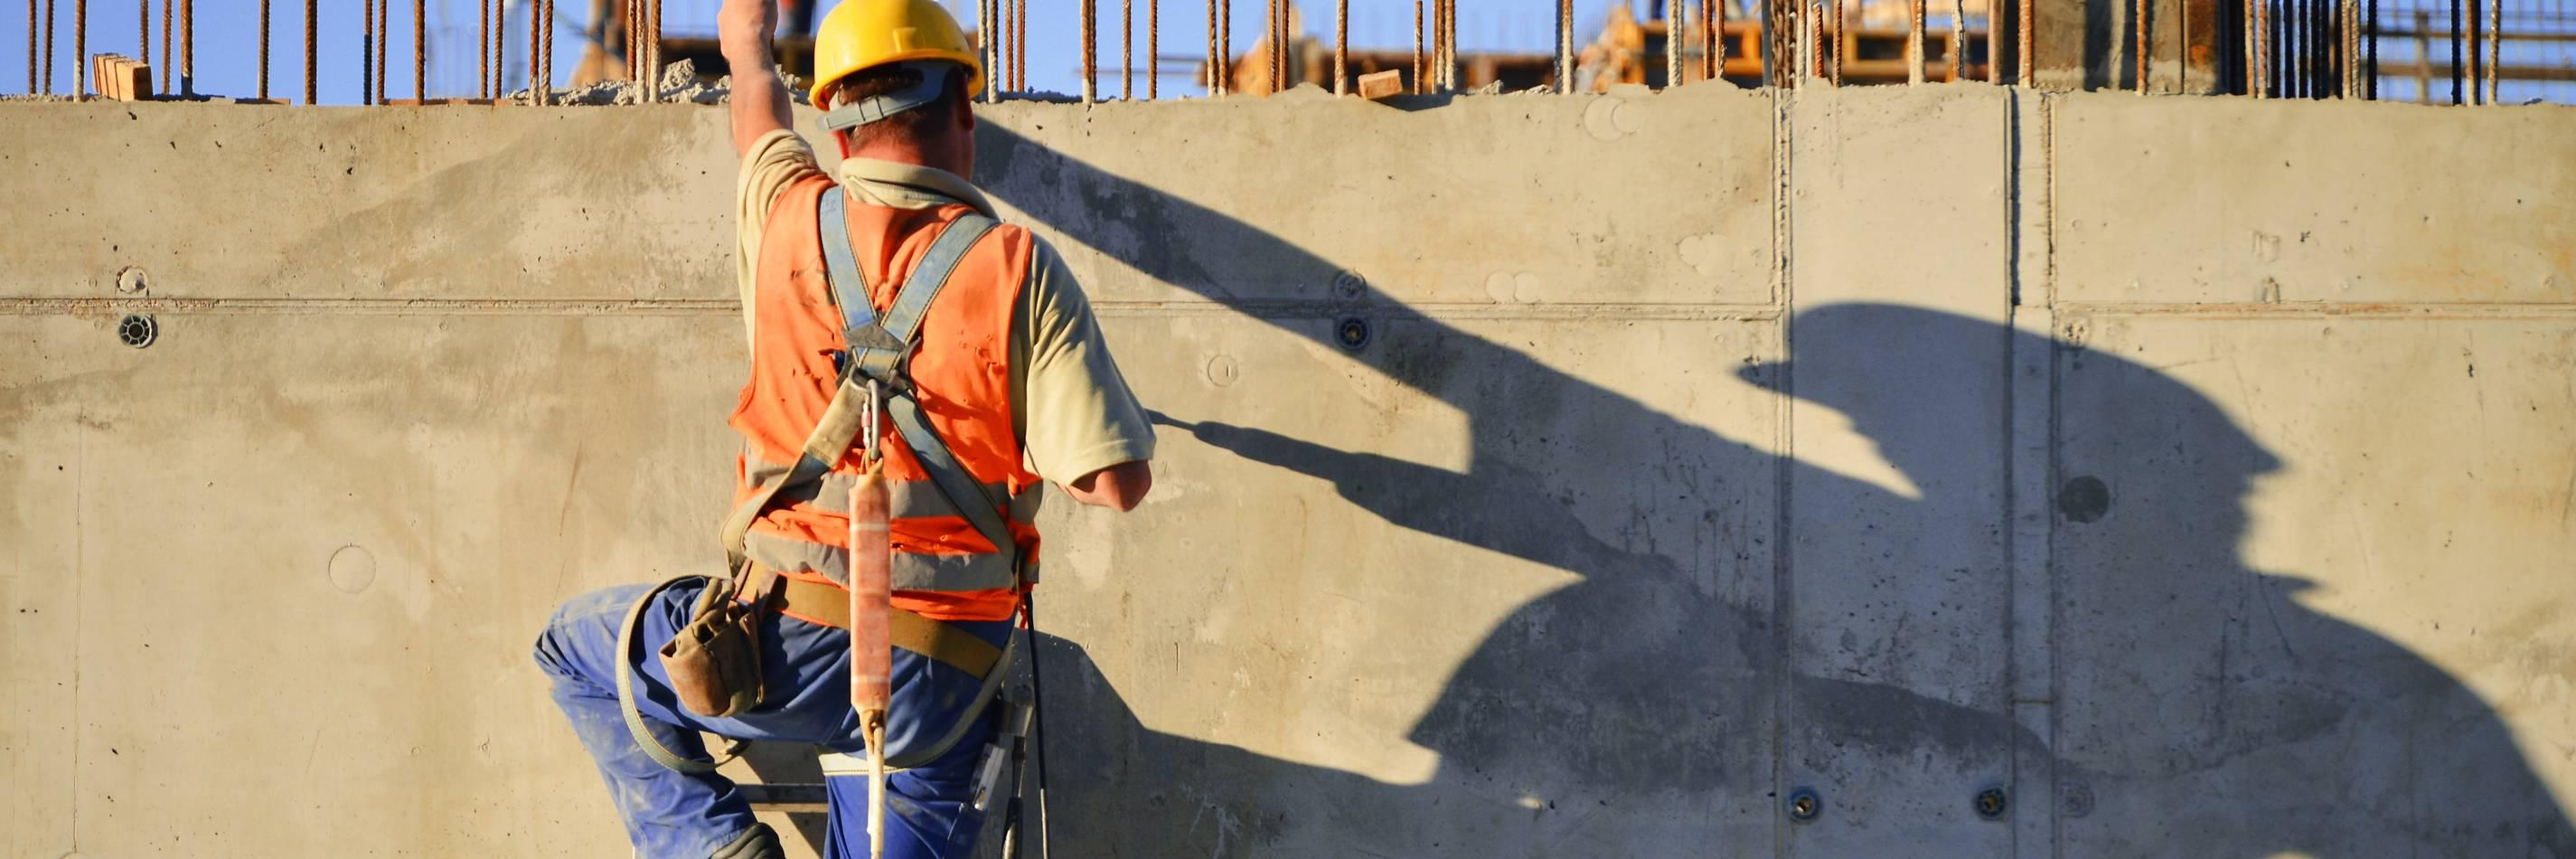helmet: (800, 2, 986, 108)
